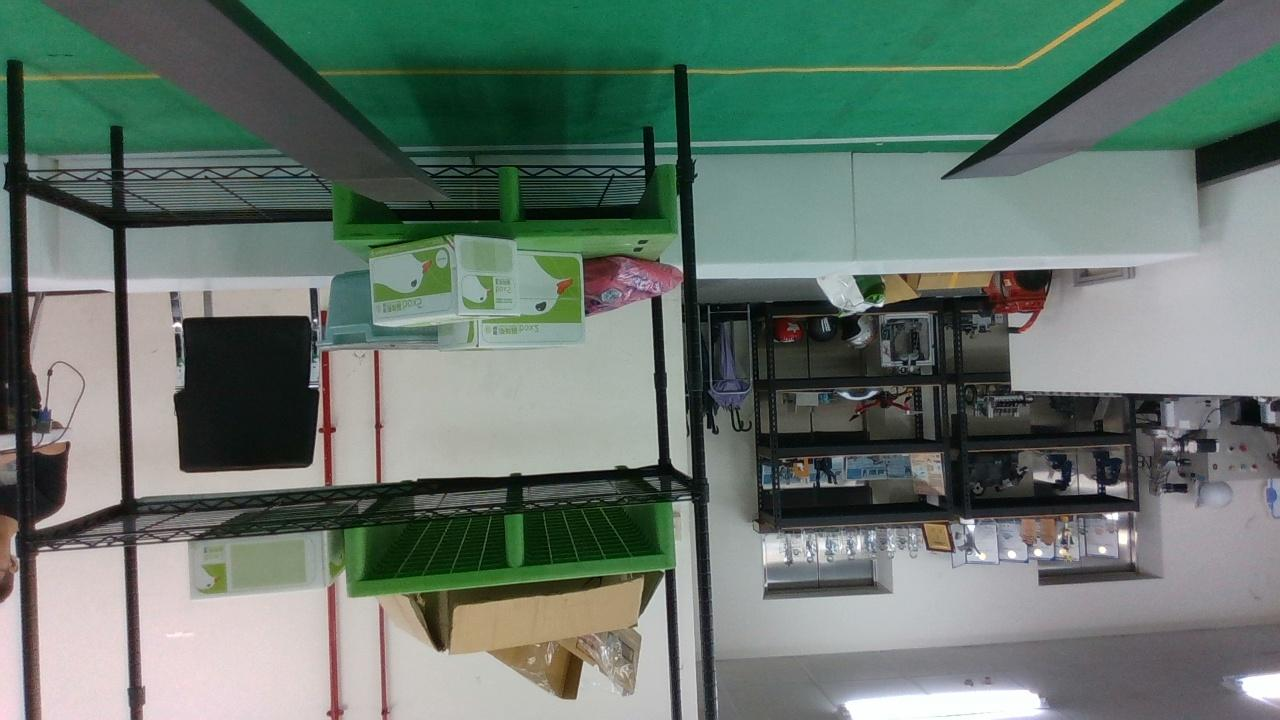Pallet: (345, 503, 677, 596), (333, 165, 678, 245)
